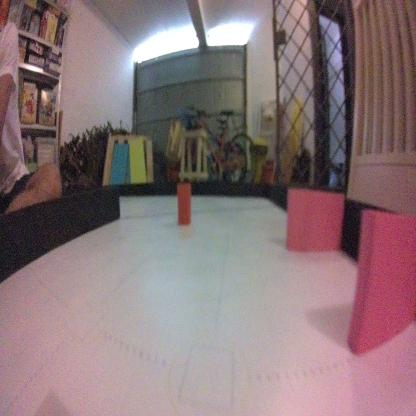magenta: (346, 204, 416, 362), (285, 188, 343, 256)
red: (177, 180, 192, 226)
